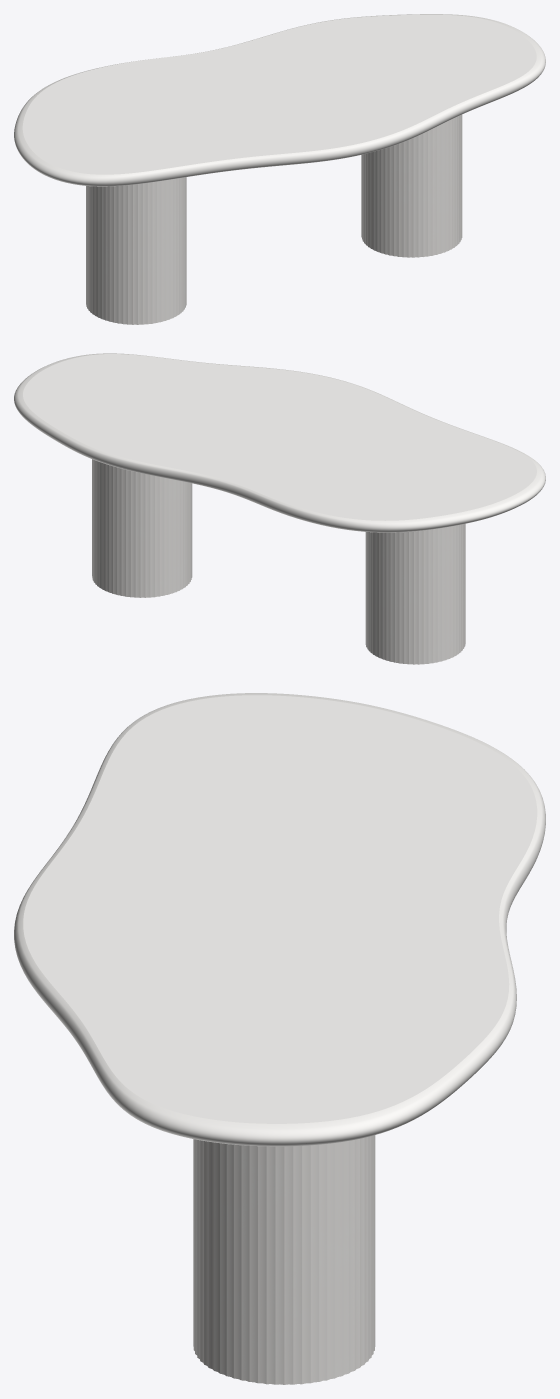
Rendered from purewhite_toplast_round_ripplesecond.glb.
3 views of the same model, one above another, from view 1: azimuth 30°, elevation 25°; view 2: azimuth 150°, elevation 25°; view 3: azimuth 270°, elevation 25° (orthographic). The views are drawn at different scales.
Parts seen in each view (by area): view 1: round_toplast, ripplesecond; view 2: round_toplast, ripplesecond; view 3: round_toplast, ripplesecond.
Part boxes in pixels (x1,y1,x2,y2): round_toplast: (14, 14, 545, 186); ripplesecond: (86, 114, 462, 324); round_toplast: (14, 353, 545, 532); ripplesecond: (92, 459, 465, 664); round_toplast: (14, 693, 545, 1146); ripplesecond: (193, 1135, 375, 1384).
Size of the model in its own units: 7.5 by 2.5 by 3.8.
Materials: 1 (1 with a texture image).
